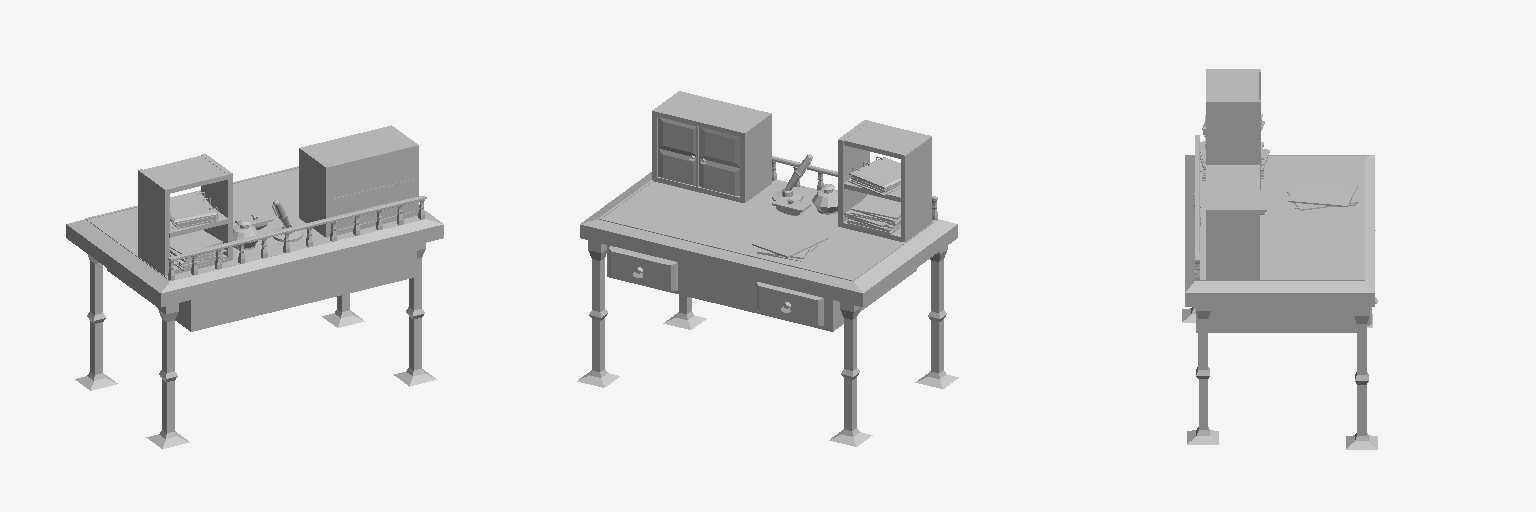
The model's file is desk3.obj.
3 renders of one model, left to right at view 1: azimuth 30°, elevation 25°; view 2: azimuth 150°, elevation 25°; view 3: azimuth 270°, elevation 25°, orthographic.
Bounding box in the file's own units: 5.1 × 4.25 × 3.04.